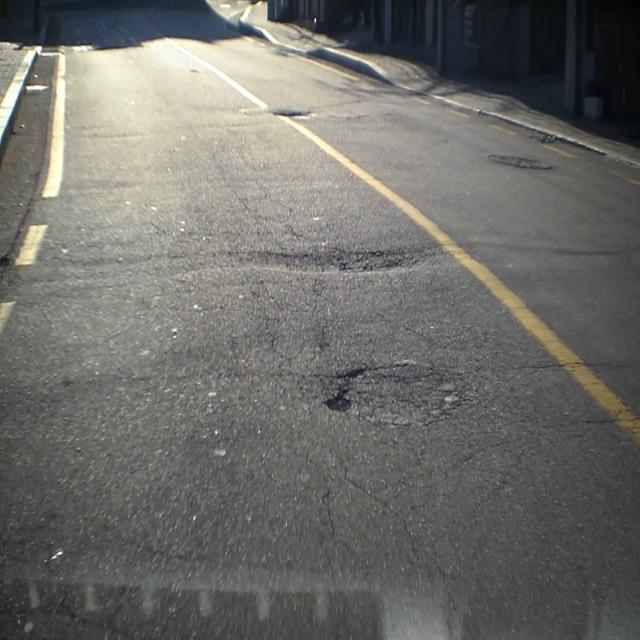pothole: (321, 357, 470, 433), (243, 233, 444, 287)
